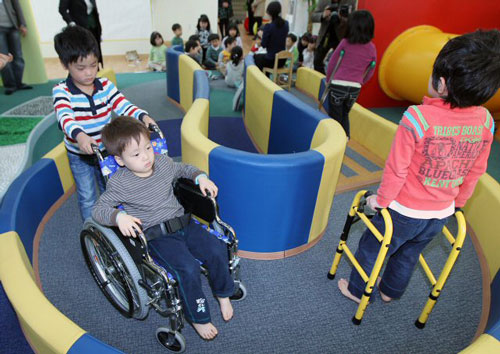wheelchair: (80, 116, 248, 354)
